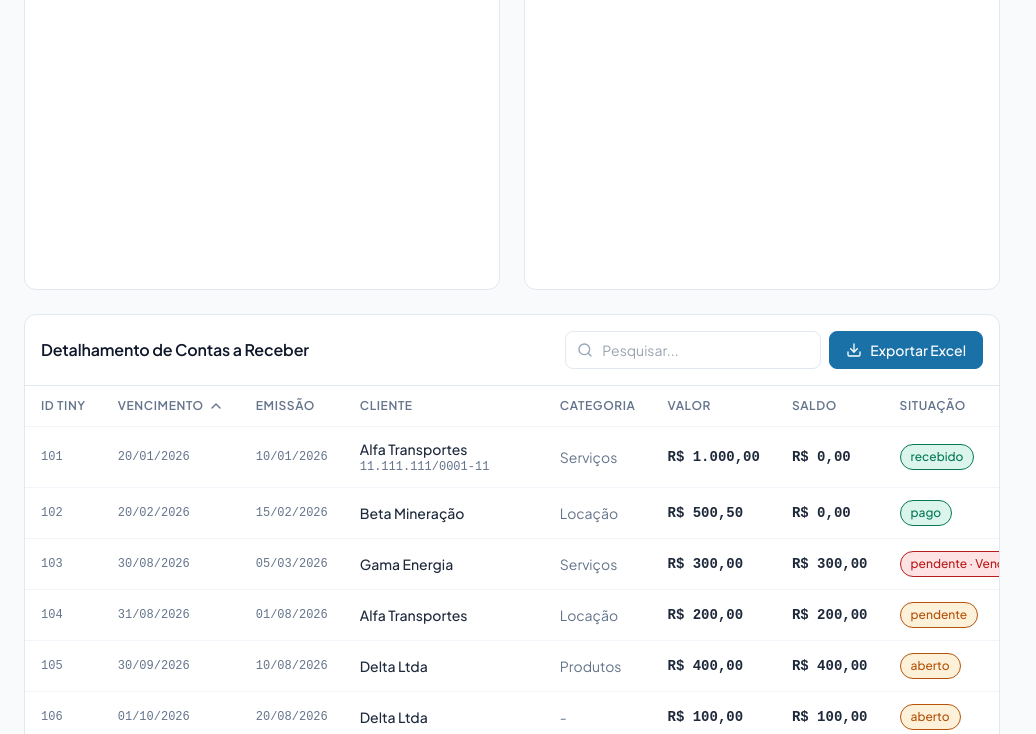
Test case: Contas a Receber — carregamento e lista vazia › uma busca que não casa com nada também desabilita o exportar
The image size is (1036, 734).
(page scrolled)
Expected: the button "Exportar Excel" is enabled, [829,331,983,369]
Type "nao existe esse cliente" into the field with placeholder "Pesquisar..." at (693, 350), box [565,331,821,369]
(page scrolled)
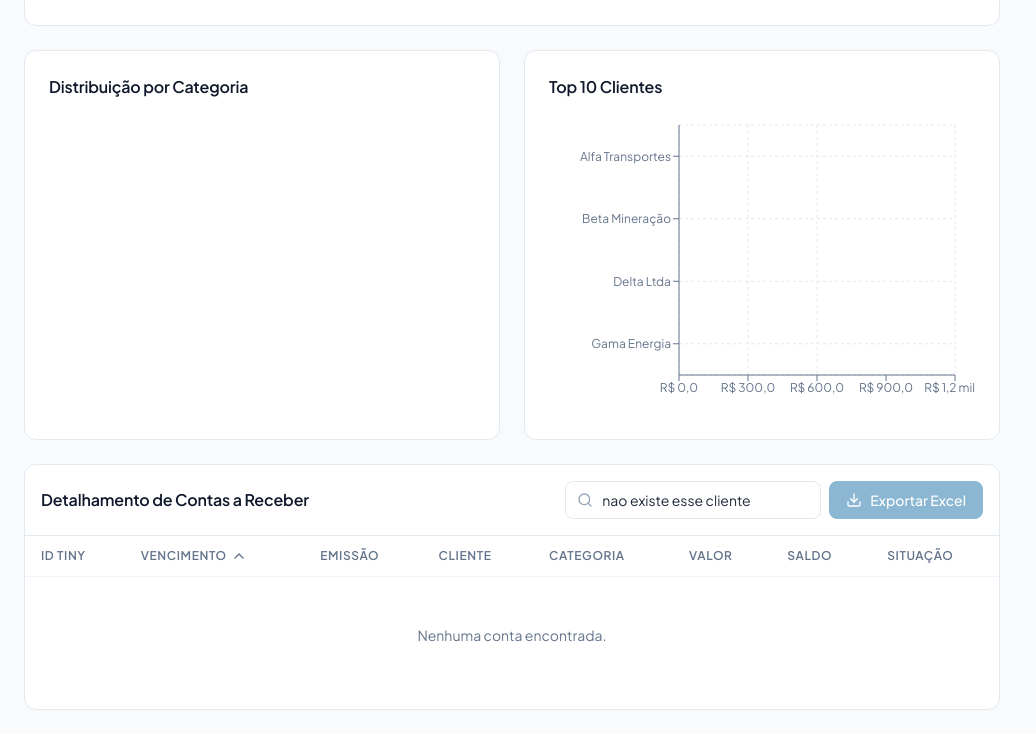
Now the button "Exportar Excel" is disabled, box [829,481,983,519]
Clear the field with placeholder "Pesquisar..." at (693, 500), box [565,481,821,519]
(page scrolled)
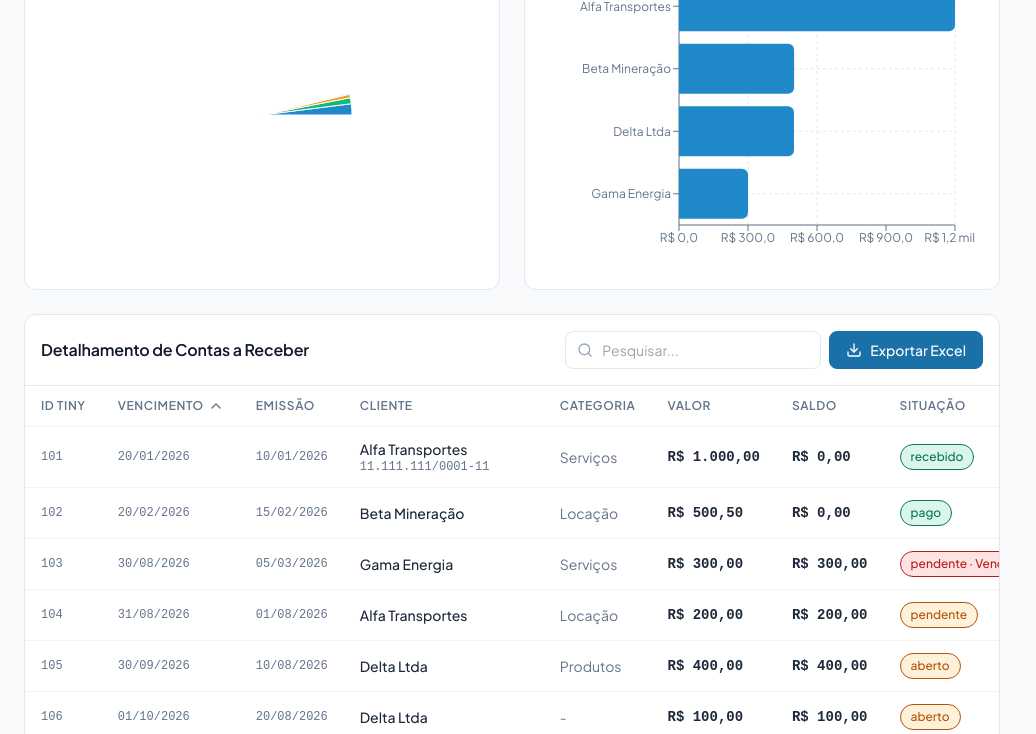
Now the button "Exportar Excel" is enabled, box [829,331,983,369]
